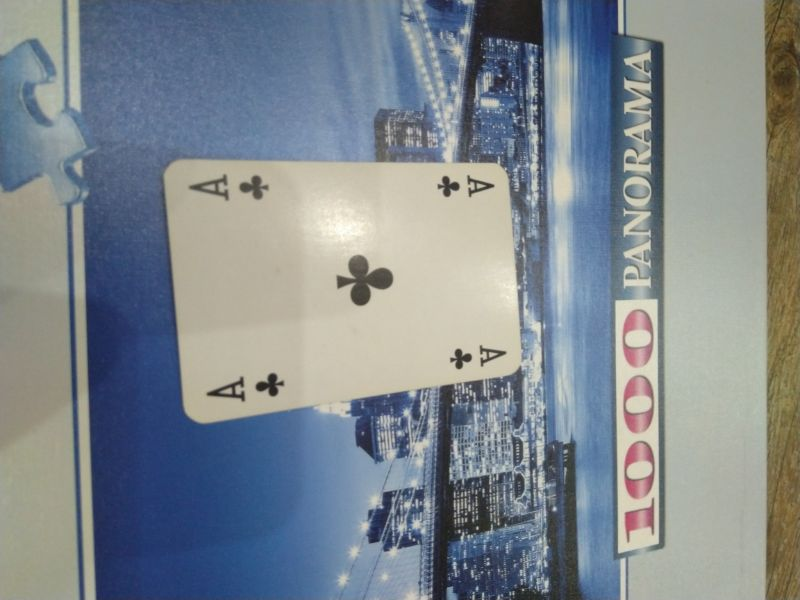Ac: (181, 169, 274, 206), (203, 369, 291, 408), (444, 342, 509, 371), (437, 171, 499, 198)
